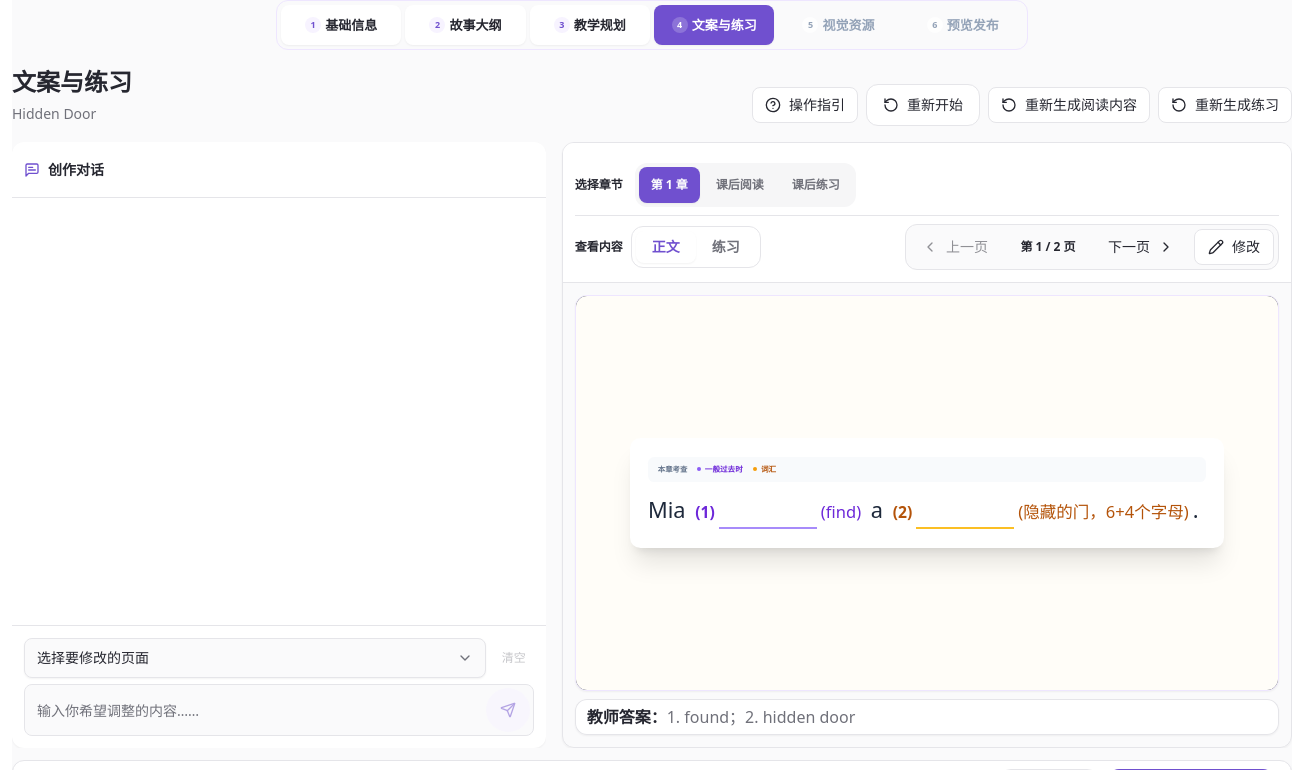
CourseContentWorkspace › uses chapter subtabs and keeps bottom pagination inside the selected section
Click the button "下一页": (1141, 247) [1096,229,1186,265]
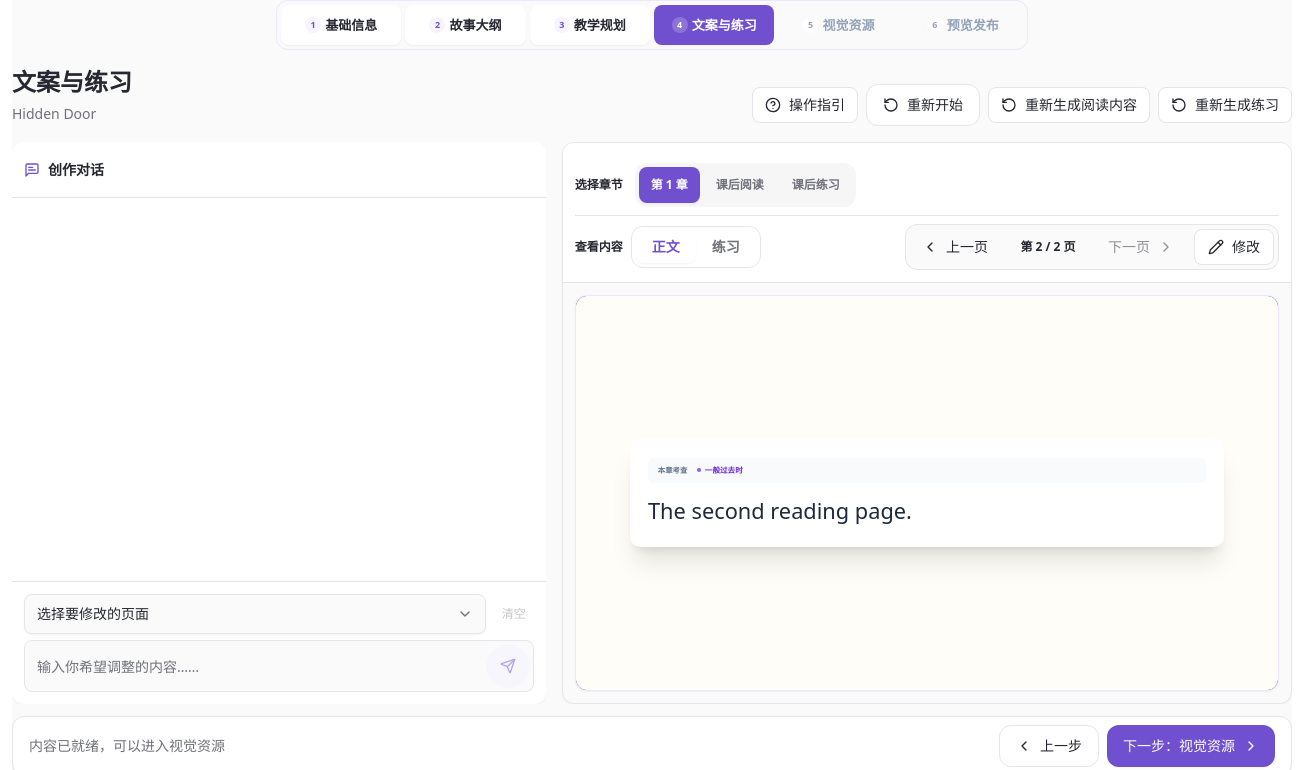
Result: the text "The second reading page." is shown at [648,496,912,525]
Result: the button "下一页" is disabled at [1096,229,1186,265]
Click the tab "练习": (726, 247) [696,231,756,263]
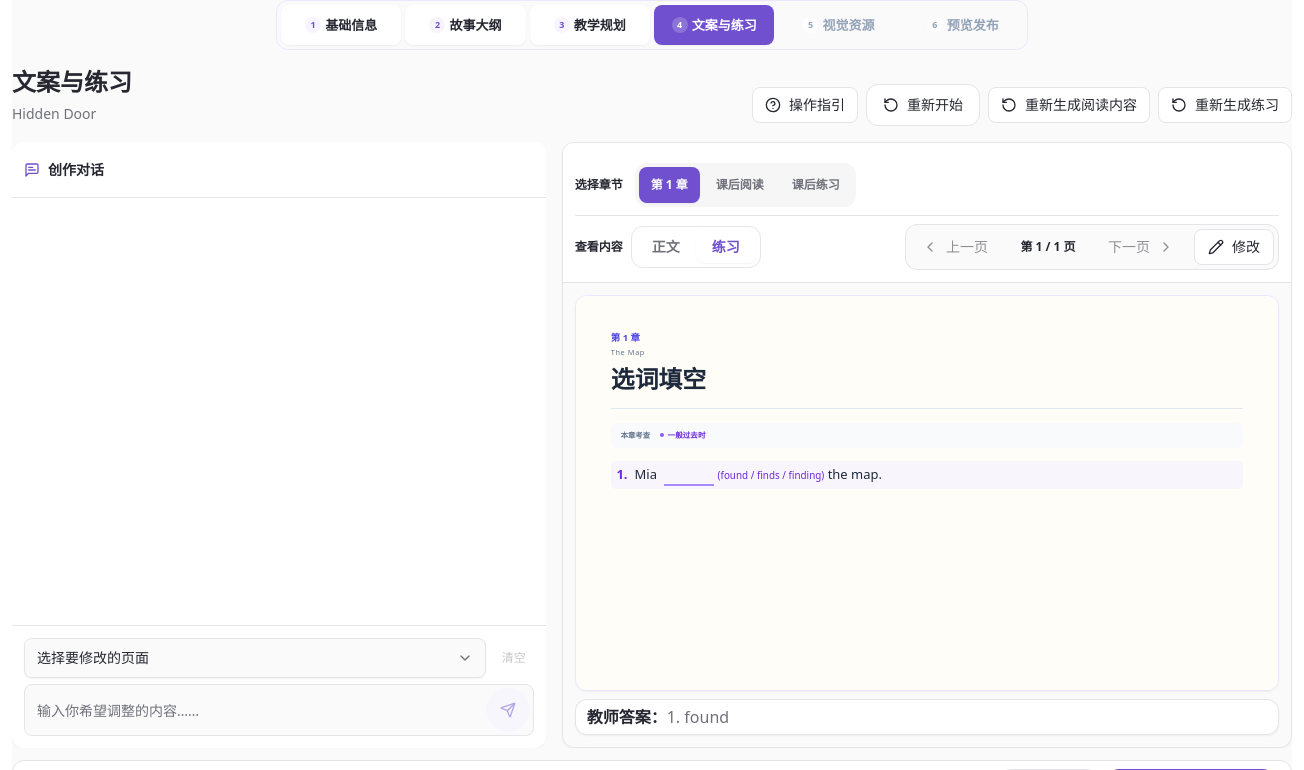
Result: the heading "选词填空" is shown at [611,362,706,395]
